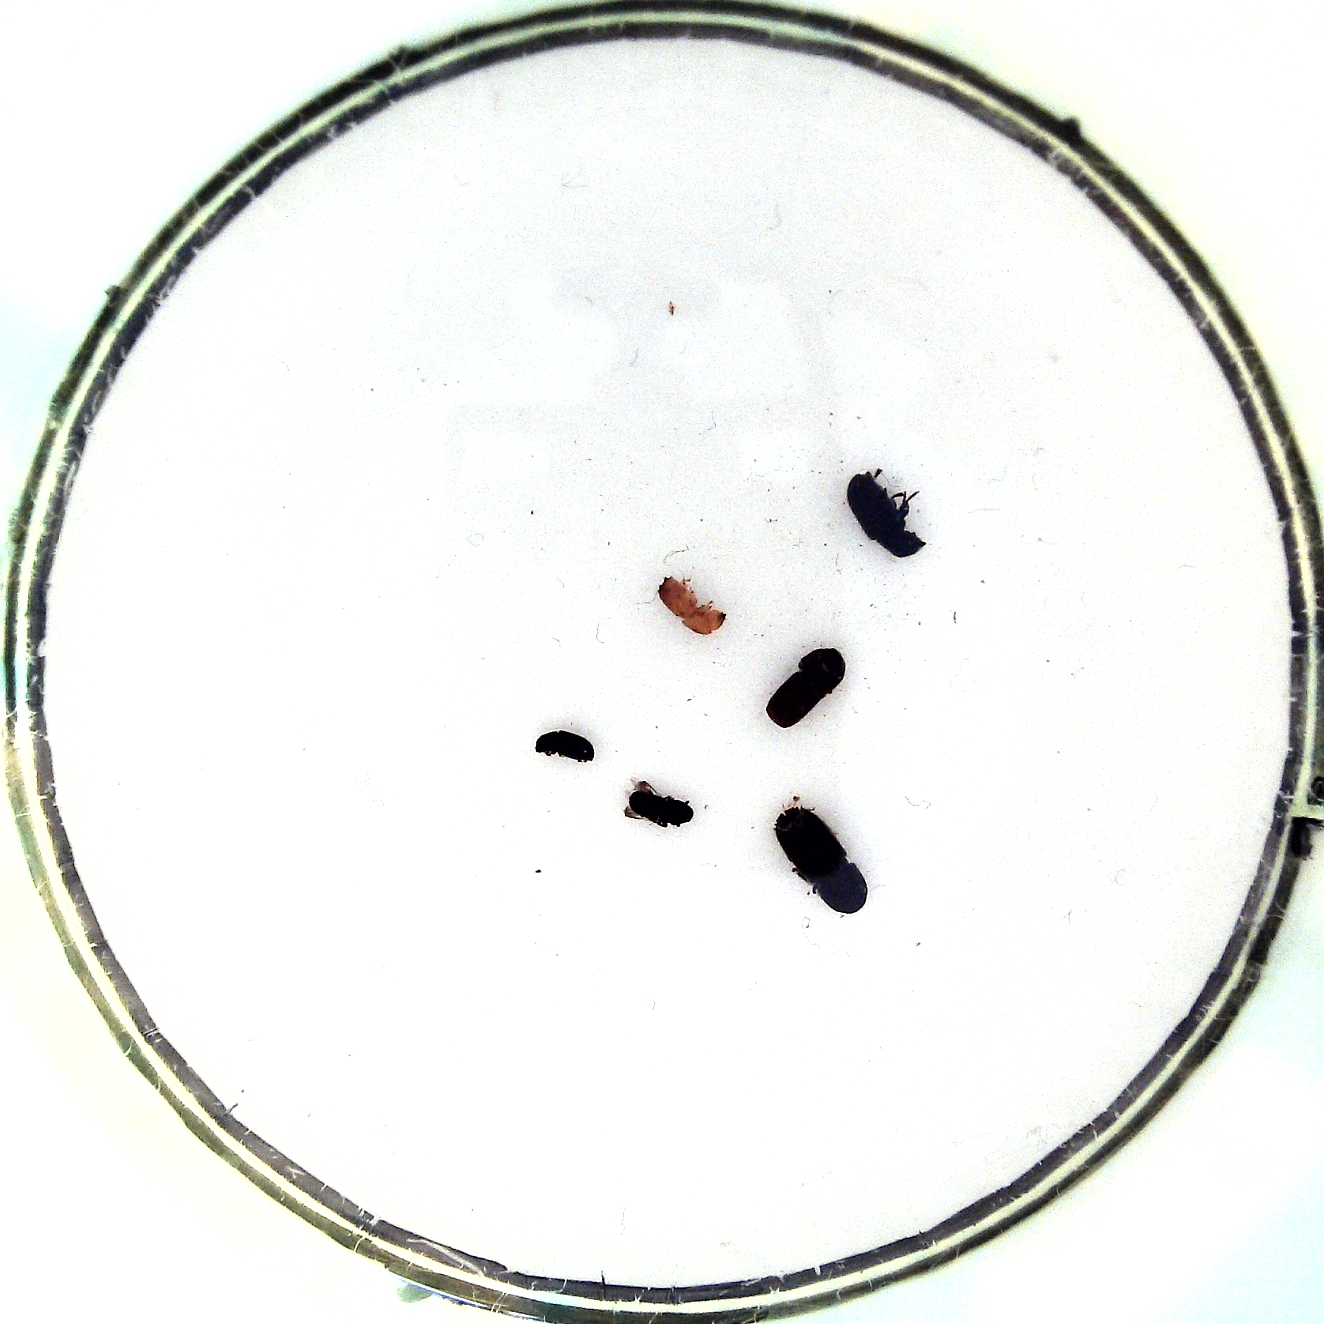Boerner: (772, 795, 874, 919)
Linnaeus: (754, 641, 850, 731)
acuminatus: (654, 567, 734, 639)
armandi: (840, 462, 930, 563)
coleoptera: (618, 772, 700, 832), (527, 721, 604, 767)
